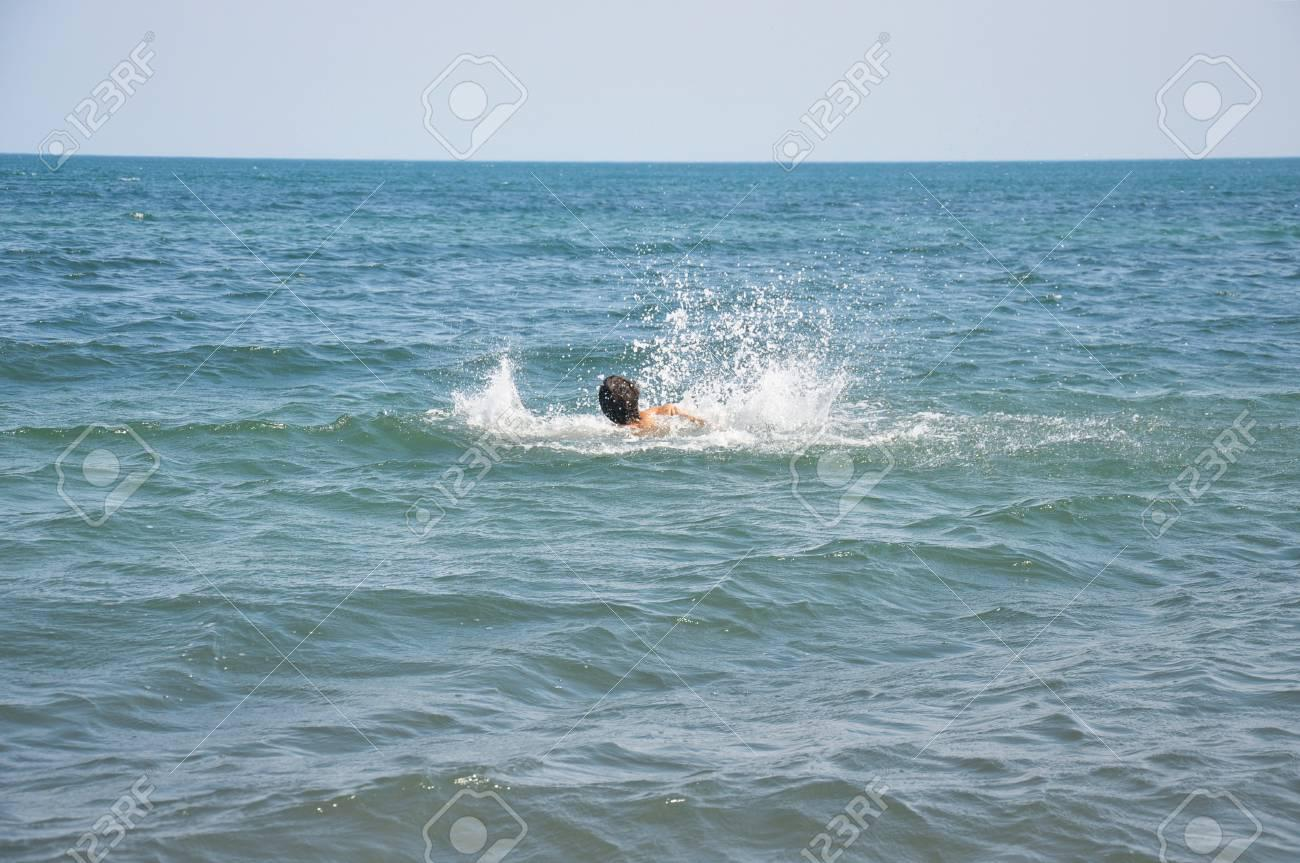swimmer: (590, 363, 705, 436)
